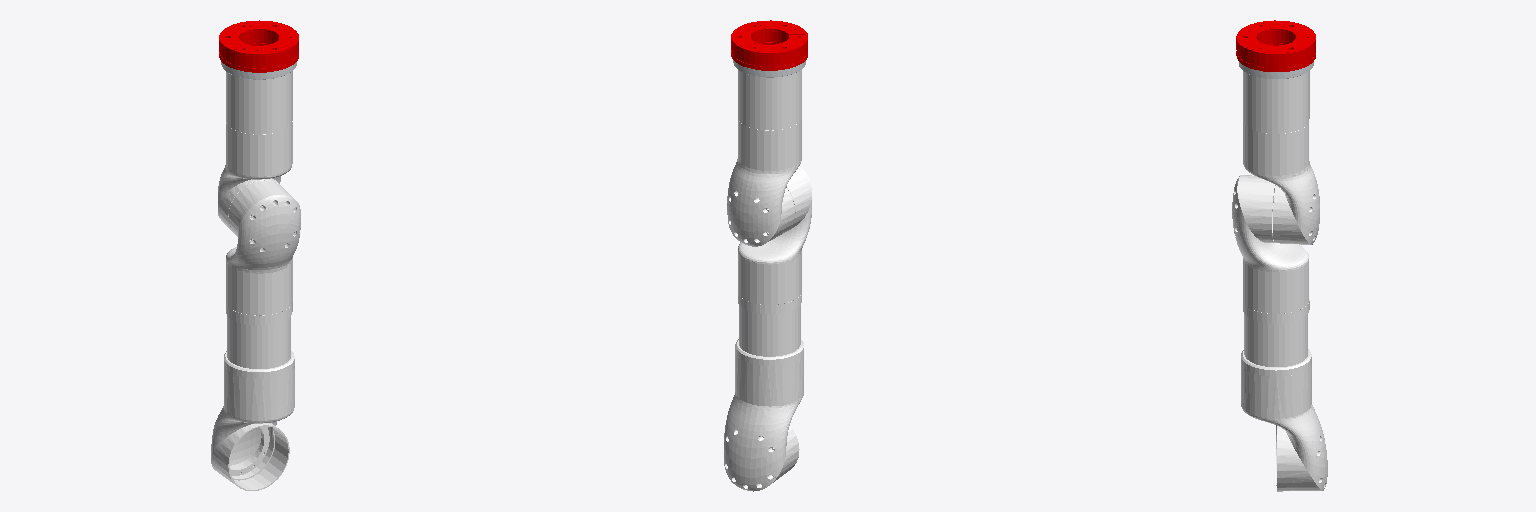
robot.urdf — armc_description:
<?xml version="1.0" encoding="utf-8"?>
<!-- This URDF was automatically created by SolidWorks to URDF Exporter! Originally created by [author] ([email redacted]) 
     Commit Version: 1.5.0-0-g9aa0fdb  Build Version: 1.5.7004.21443
     For more information, please see http://wiki.ros.org/sw_urdf_exporter -->
<robot
  name="armc_description">

<link name="world"/>
<joint name="fixed" type="fixed">
  <parent link="world"/>
  <child link="base_link"/>
</joint>
  <link
    name="base_link">
    <inertial>
      <origin
        xyz="2.7291E-05 6.0375E-05 0.070392"
        rpy="0 0 0" />
      <mass
        value="0.30535" />
      <inertia
        ixx="0.00091531"
        ixy="-2.4502E-07"
        ixz="2.9378E-07"
        iyy="0.00091481"
        iyz="8.1214E-07"
        izz="0.00047819" />
    </inertial>
    <visual>
      <origin
        xyz="0 0 0"
        rpy="0 0 0" />
      <geometry>
        <mesh
          filename="package://armc_description/meshes/base_link.STL" />
      </geometry>
      <material
        name="">
        <color
          rgba="1 1 1 1" />
      </material>
    </visual>
    <collision>
      <origin
        xyz="0 0 0"
        rpy="0 0 0" />
      <geometry>
        <mesh
          filename="package://armc_description/meshes/base_link.STL" />
      </geometry>
    </collision>
  </link>
  <link
    name="Link1">
    <inertial>
      <origin
        xyz="-9.6229E-07 -0.00081654 0.22221"
        rpy="0 0 0" />
      <mass
        value="0.29195" />
      <inertia
        ixx="0.00091458"
        ixy="1.0429E-07"
        ixz="-1.9214E-10"
        iyy="0.00078906"
        iyz="-3.0542E-06"
        izz="0.00046485" />
    </inertial>
    <visual>
      <origin
        xyz="0 0 0"
        rpy="0 0 0" />
      <geometry>
        <mesh
          filename="package://armc_description/meshes/Link1.STL" />
      </geometry>
      <material
        name="">
        <color
          rgba="1 1 1 1" />
      </material>
    </visual>
    <collision>
      <origin
        xyz="0 0 0"
        rpy="0 0 0" />
      <geometry>
        <mesh
          filename="package://armc_description/meshes/Link1.STL" />
      </geometry>
    </collision>
  </link>
  <joint
    name="Joint1"
    type="continuous">
    <origin
      xyz="0 0 0"
      rpy="0 0 0" />
    <parent
      link="base_link" />
    <child
      link="Link1" />
    <axis
      xyz="0 0 1" />
    <limit
      lower="-3.14"
      upper="3.14"
      effort="60"
      velocity="20" />
  </joint>
  <link
    name="Link2">
    <inertial>
      <origin
        xyz="0.0014965 -0.10428 0.0093553"
        rpy="0 0 0" />
      <mass
        value="0.27082" />
      <inertia
        ixx="0.0013333"
        ixy="1.4113E-05"
        ixz="3.7731E-06"
        iyy="0.00038012"
        iyz="-0.00025532"
        izz="0.0012777" />
    </inertial>
    <visual>
      <origin
        xyz="0 0 0"
        rpy="0 0 0" />
      <geometry>
        <mesh
          filename="package://armc_description/meshes/Link2.STL" />
      </geometry>
      <material
        name="">
        <color
          rgba="1 1 1 1" />
      </material>
    </visual>
    <collision>
      <origin
        xyz="0 0 0"
        rpy="0 0 0" />
      <geometry>
        <mesh
          filename="package://armc_description/meshes/Link2.STL" />
      </geometry>
    </collision>
  </link>
  <joint
    name="Joint2"
    type="revolute">
    <origin
      xyz="3.8503E-05 0 0.24812"
      rpy="-1.5708 0 0.0010635" />
    <parent
      link="Link1" />
    <child
      link="Link2" />
    <axis
      xyz="0 0 1" />
    <limit
      lower="-1.9"
      upper="1.9"
      effort="60"
      velocity="20" />
  </joint>
  <link
    name="Link3">
    <inertial>
      <origin
        xyz="9.915E-06 -0.002389 0.27731"
        rpy="0 0 0" />
      <mass
        value="0.2313" />
      <inertia
        ixx="0.00069611"
        ixy="2.3457E-07"
        ixz="-1.9566E-08"
        iyy="0.0006322"
        iyz="1.2171E-05"
        izz="0.00031231" />
    </inertial>
    <visual>
      <origin
        xyz="0 0 0"
        rpy="0 0 0" />
      <geometry>
        <mesh
          filename="package://armc_description/meshes/Link3.STL" />
      </geometry>
      <material
        name="">
        <color
          rgba="1 1 1 1" />
      </material>
    </visual>
    <collision>
      <origin
        xyz="0 0 0"
        rpy="0 0 0" />
      <geometry>
        <mesh
          filename="package://armc_description/meshes/Link3.STL" />
      </geometry>
    </collision>
  </link>
  <joint
    name="Joint3"
    type="revolute">
    <origin
      xyz="-3.8503E-05 0.00011553 0"
      rpy="1.5708 0 0.01473" />
    <parent
      link="Link2" />
    <child
      link="Link3" />
    <axis
      xyz="0 0 1" />
    <limit
      lower="-3.14"
      upper="3.14"
      effort="40"
      velocity="20" />
  </joint>
  <link
    name="Link4">
    <inertial>
      <origin
        xyz="-0.0013744 -0.093336 0.0092998"
        rpy="0 0 0" />
      <mass
        value="0.20172" />
      <inertia
        ixx="0.00095508"
        ixy="-1.0307E-05"
        ixz="-2.5138E-06"
        iyy="0.00025405"
        iyz="-0.00017191"
        izz="0.0009263" />
    </inertial>
    <visual>
      <origin
        xyz="0 0 0"
        rpy="0 0 0" />
      <geometry>
        <mesh
          filename="package://armc_description/meshes/Link4.STL" />
      </geometry>
      <material
        name="">
        <color
          rgba="1 1 1 1" />
      </material>
    </visual>
    <collision>
      <origin
        xyz="0 0 0"
        rpy="0 0 0" />
      <geometry>
        <mesh
          filename="package://armc_description/meshes/Link4.STL" />
      </geometry>
    </collision>
  </link>
  <joint
    name="Joint4"
    type="revolute">
    <origin
      xyz="0 0 0.305"
      rpy="-1.5708 0 0.0039406" />
    <parent
      link="Link3" />
    <child
      link="Link4" />
    <axis
      xyz="0 0 1" />
    <limit
      lower="-1.9"
      upper="1.9"
      effort="40"
      velocity="20" />
  </joint>
  <link
    name="Link5">
    <inertial>
      <origin
        xyz="-0.00035127 -0.0030192 0.26208"
        rpy="0 0 0" />
      <mass
        value="0.20121" />
      <inertia
        ixx="0.00066636"
        ixy="-4.914E-06"
        ixz="2.9088E-06"
        iyy="0.00062822"
        iyz="2.2513E-05"
        izz="0.00021695" />
    </inertial>
    <visual>
      <origin
        xyz="0 0 0"
        rpy="0 0 0" />
      <geometry>
        <mesh
          filename="package://armc_description/meshes/Link5.STL" />
      </geometry>
      <material
        name="">
        <color
          rgba="1 1 1 1" />
      </material>
    </visual>
    <collision>
      <origin
        xyz="0 0 0"
        rpy="0 0 0" />
      <geometry>
        <mesh
          filename="package://armc_description/meshes/Link5.STL" />
      </geometry>
    </collision>
  </link>
  <joint
    name="Joint5"
    type="revolute">
    <origin
      xyz="0 0 0"
      rpy="1.5707 0 -0.01473" />
    <parent
      link="Link4" />
    <child
      link="Link5" />
    <axis
      xyz="0 0 1" />
    <limit
      lower="-3.14"
      upper="3.14"
      effort="15"
      velocity="30" />
  </joint>
  <link
    name="Link6">
    <inertial>
      <origin
        xyz="3.2079E-05 -0.097036 0.0070198"
        rpy="0 0 0" />
      <mass
        value="0.18667" />
      <inertia
        ixx="0.00082771"
        ixy="-2.5635E-07"
        ixz="2.8367E-08"
        iyy="0.00020369"
        iyz="-0.00012311"
        izz="0.00081164" />
    </inertial>
    <visual>
      <origin
        xyz="0 0 0"
        rpy="0 0 0" />
      <geometry>
        <mesh
          filename="package://armc_description/meshes/Link6.STL" />
      </geometry>
      <material
        name="">
        <color
          rgba="1 1 1 1" />
      </material>
    </visual>
    <collision>
      <origin
        xyz="0 0 0"
        rpy="0 0 0" />
      <geometry>
        <mesh
          filename="package://armc_description/meshes/Link6.STL" />
      </geometry>
    </collision>
  </link>
  <joint
    name="Joint6"
    type="revolute">
    <origin
      xyz="0 -1.7766E-05 0.306"
      rpy="-1.5707 0 -0.12601" />
    <parent
      link="Link5" />
    <child
      link="Link6" />
    <axis
      xyz="0 0 1" />
    <limit
      lower="-1.9"
      upper="1.9"
      effort="15"
      velocity="30" />
  </joint>
  <link
    name="Link7">
    <inertial>
      <origin
        xyz="2.7283E-15 -5.3659E-09 0.18582"
        rpy="0 0 0" />
      <mass
        value="0.10414" />
      <inertia
        ixx="5.1163E-05"
        ixy="6.3527E-20"
        ixz="8.2388E-21"
        iyy="5.1163E-05"
        iyz="-3.3915E-21"
        izz="9.972E-05" />
    </inertial>
    <visual>
      <origin
        xyz="0 0 0"
        rpy="0 0 0" />
      <geometry>
        <mesh
          filename="package://armc_description/meshes/Link7.STL" />
      </geometry>
      <material
        name="">
        <color
          rgba="0.89804 0.91765 0.92941 1" />
      </material>
    </visual>
    <collision>
      <origin
        xyz="0 0 0"
        rpy="0 0 0" />
      <geometry>
        <mesh
          filename="package://armc_description/meshes/Link7.STL" />
      </geometry>
    </collision>
  </link>
  <joint
    name="Joint7"
    type="revolute">
    <origin
      xyz="0 0 0"
      rpy="1.5708 0 0" />
    <parent
      link="Link6" />
    <child
      link="Link7" />
    <axis
      xyz="0 0 1" />
    <limit
      lower="0"
      upper="0"
      effort="0"
      velocity="0" />
    <safety_controller
      k_velocity="0" />
  </joint>
  <link
    name="sensor_link">
    <inertial>
      <origin
        xyz="5.187E-06 8.9595E-06 0.011516"
        rpy="0 0 0" />
      <mass
        value="0.10567" />
      <inertia
        ixx="7.1441E-05"
        ixy="1.6499E-08"
        ixz="-4.9269E-09"
        iyy="7.146E-05"
        iyz="-8.5336E-09"
        izz="0.00013366" />
    </inertial>
    <visual>
      <origin
        xyz="0 0 0"
        rpy="0 0 0" />
      <geometry>
        <mesh
          filename="package://armc_description/meshes/sensor_link.STL" />
      </geometry>
      <material
        name="">
        <color
          rgba="1 0 0 1" />
      </material>
    </visual>
    <collision>
      <origin
        xyz="0 0 0"
        rpy="0 0 0" />
      <geometry>
        <mesh
          filename="package://armc_description/meshes/sensor_link.STL" />
      </geometry>
    </collision>
  </link>
  <joint
    name="sensor_joint"
    type="fixed">
    <origin
      xyz="0 0 0.192"
      rpy="0 0 0.12101" />
    <parent
      link="Link7" />
    <child
      link="sensor_link" />
    <axis
      xyz="0 0 1" />
    <limit
      lower="0"
      upper="0"
      effort="0"
      velocity="0" />
    <safety_controller
      k_velocity="0" />
  </joint>
</robot>

--- Render facts (derived) ---
3 views of the same robot in one strip: view 1: azimuth 30°, elevation 25°; view 2: azimuth 150°, elevation 25°; view 3: azimuth 270°, elevation 25° (orthographic).
Model armc_description with 10 links and 9 joints (6 revolute, 1 continuous, 2 fixed), rooted at world, posed every joint at zero.
Visible links, largest first — view 1: Link4, Link5, Link6, sensor_link; view 2: Link4, Link6, Link5, sensor_link; view 3: Link4, Link6, Link5, sensor_link.
Link boxes in pixels (<box>): Link4: <box>211,316,294,490</box>; Link5: <box>226,180,300,324</box>; Link6: <box>218,71,292,233</box>; sensor_link: <box>219,20,298,72</box>; Link4: <box>724,305,803,491</box>; Link6: <box>727,70,801,246</box>; Link5: <box>738,167,811,313</box>; sensor_link: <box>731,20,807,70</box>; Link4: <box>1241,314,1327,491</box>; Link6: <box>1243,71,1319,244</box>; Link5: <box>1232,175,1309,323</box>; sensor_link: <box>1236,20,1315,71</box>.
Bounding box of the posed robot: 0.0899 × 0.1079 × 0.561 m (x, y, z).
Meshes: 9 distinct files referenced, 5 mesh visuals loaded (5 binary STL); not drawn: 4 (reference not matched to a file when rendering).